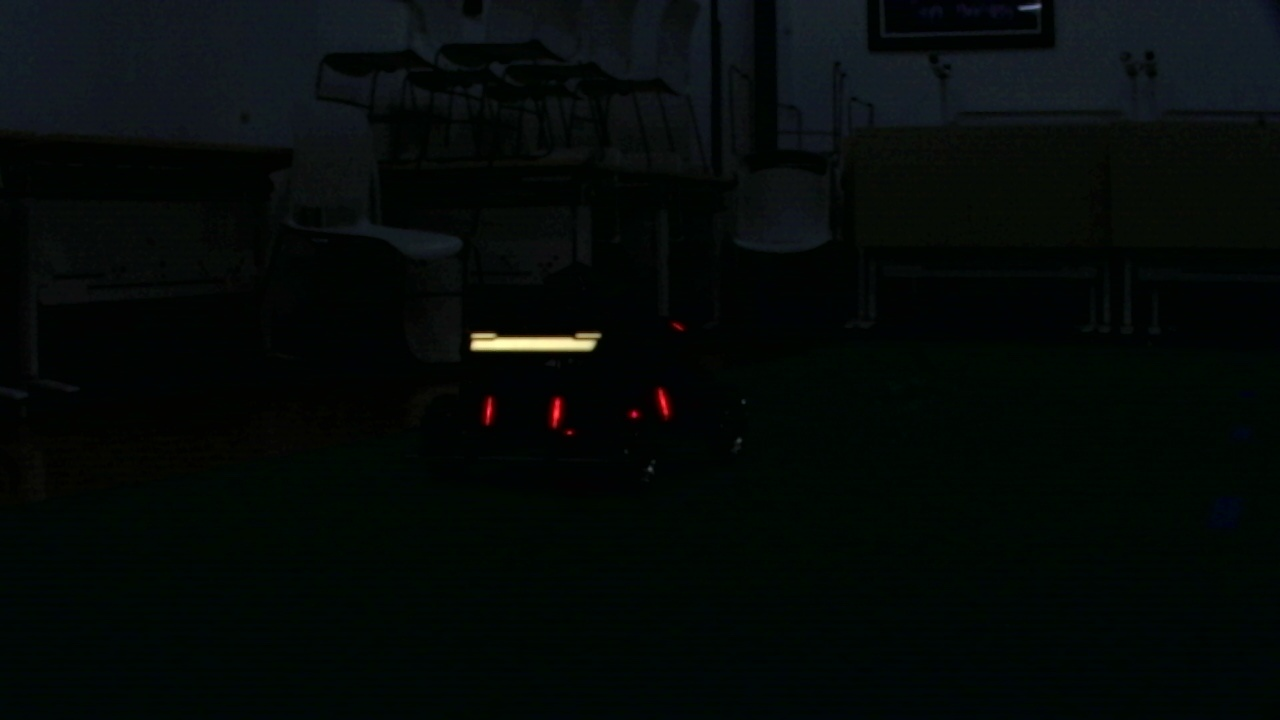lamp: (655, 386, 670, 417), (552, 395, 563, 431), (484, 392, 497, 422)
pair1: (484, 397, 559, 427)
